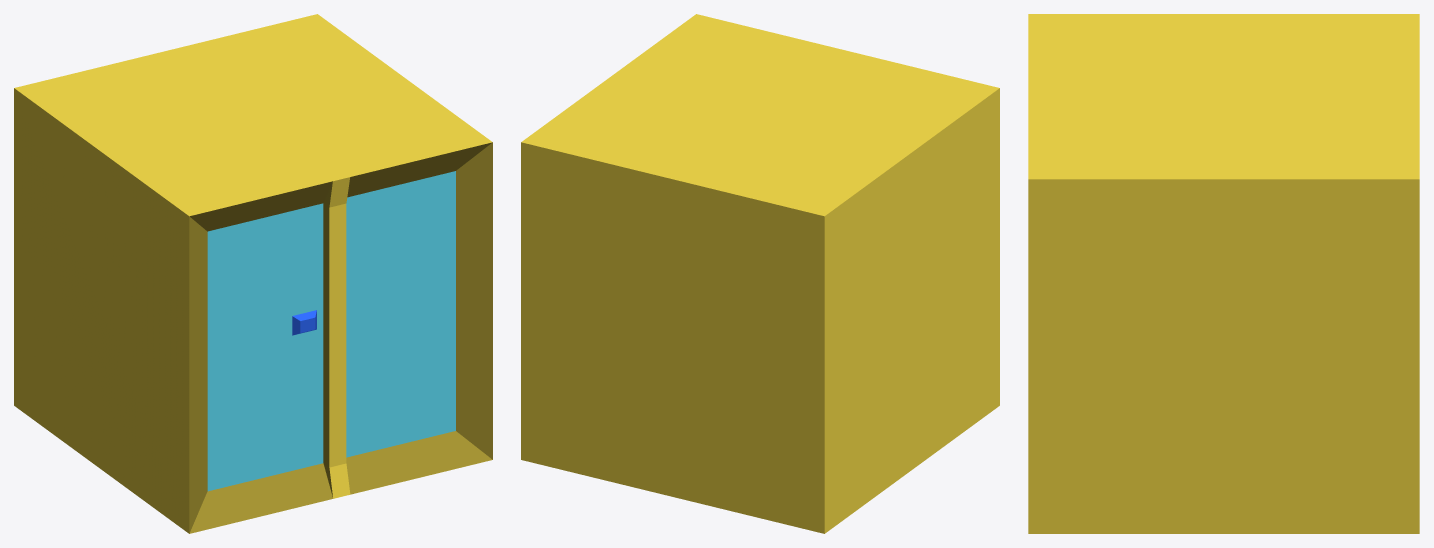
Rendered from Kitchen_Left.fbx.
3 views of the same model, side by side, from view 1: azimuth 30°, elevation 25°; view 2: azimuth 150°, elevation 25°; view 3: azimuth 270°, elevation 25° (orthographic). The views are drawn at different scales.
Visible parts, largest first — view 1: Cube; view 2: Cube; view 3: Cube.
Part boxes in pixels (<box>): Cube: <box>14,14,492,533</box>; Cube: <box>521,14,999,533</box>; Cube: <box>1028,14,1419,533</box>.
Bounding box in the file's own units: 200 × 200 × 200.
